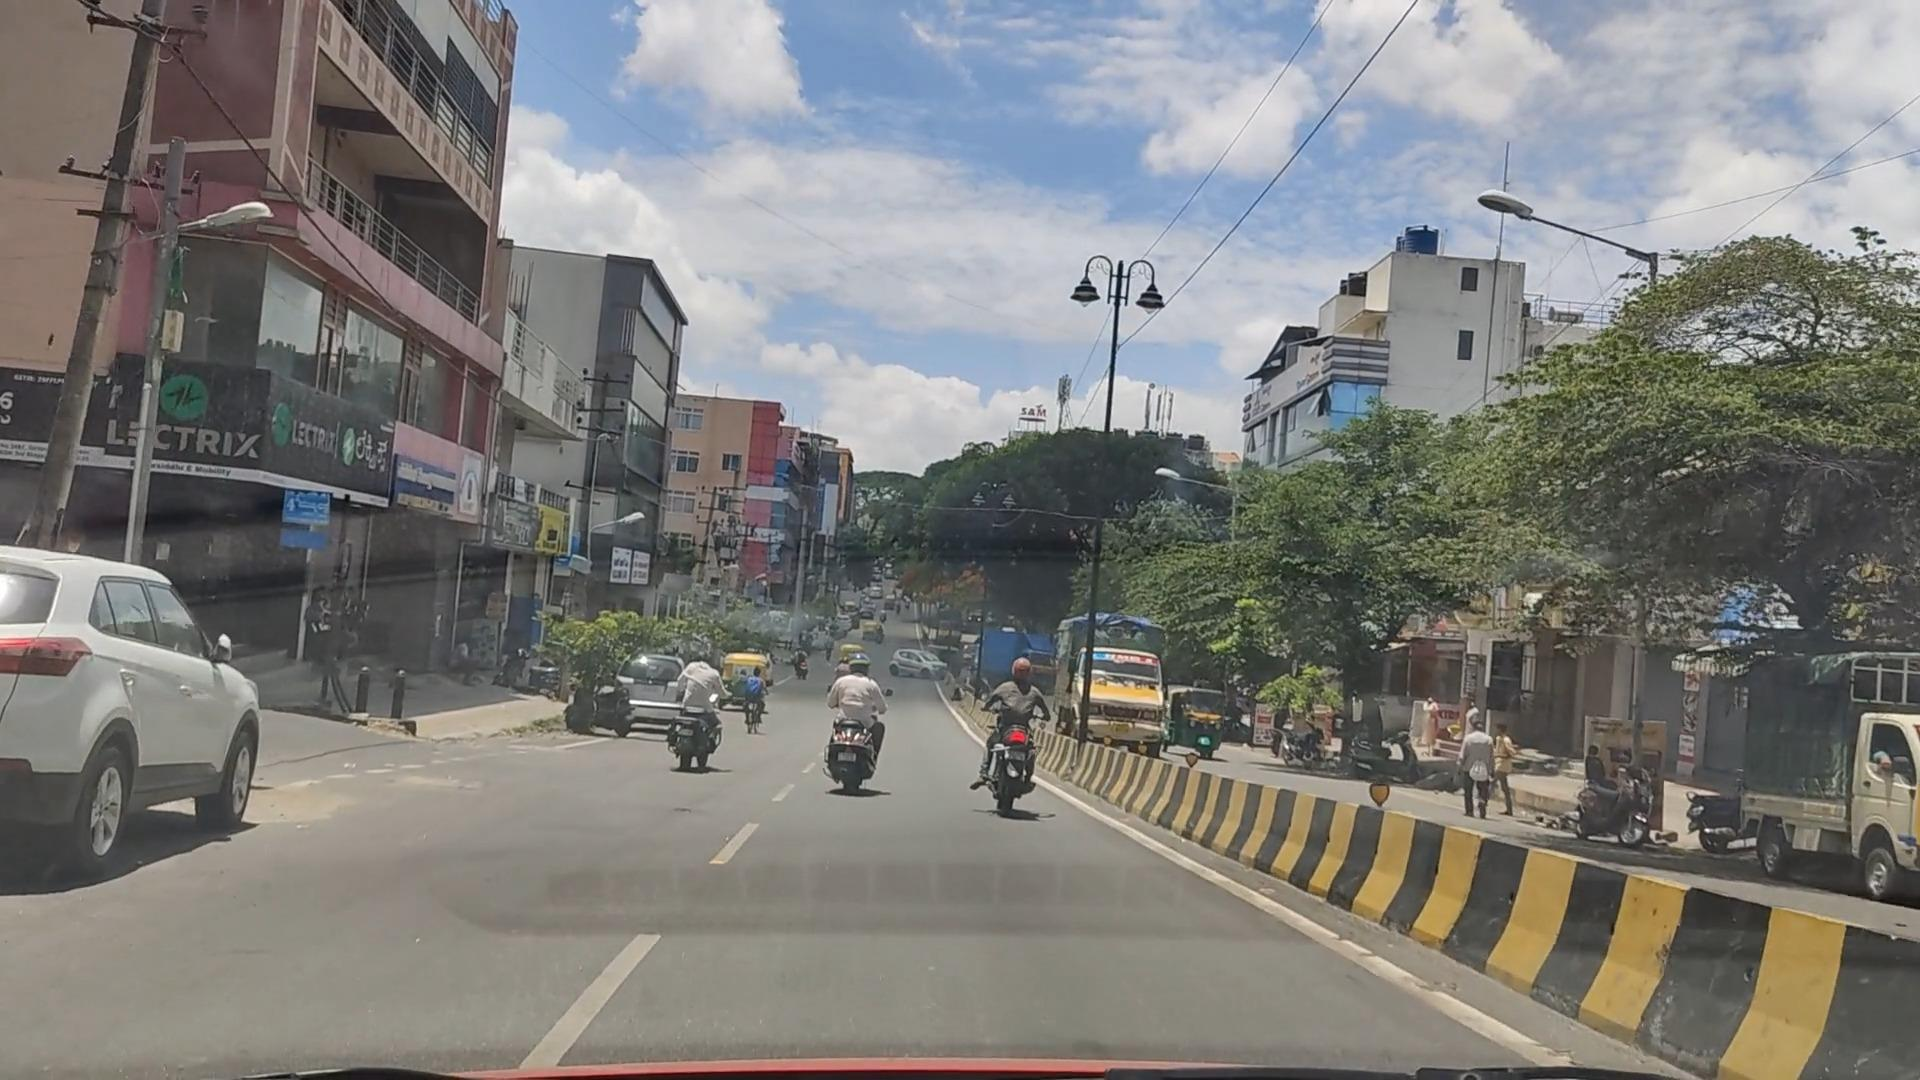LMV: (5, 535, 285, 881), (976, 650, 1069, 843), (647, 628, 721, 782), (833, 658, 889, 804)
RoadDamages: (284, 736, 496, 852)
